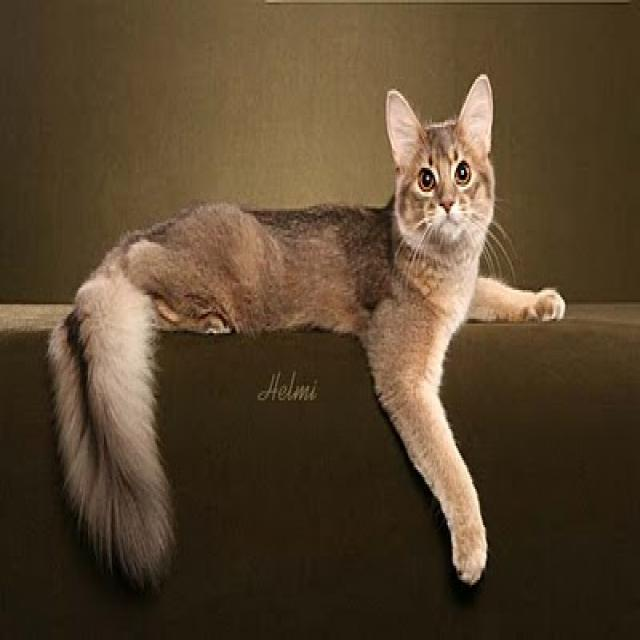cat: (384, 72, 494, 242)
